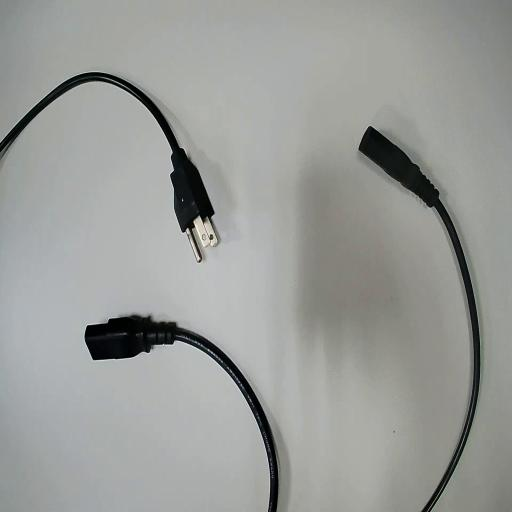wire: (360, 127, 479, 511), (86, 316, 277, 511), (0, 73, 213, 230)
